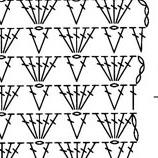enseble_chain: (31, 108, 67, 145), (70, 23, 105, 59), (31, 51, 66, 87), (70, 81, 104, 116), (109, 52, 142, 88), (0, 23, 31, 60), (90, 108, 120, 145), (52, 22, 82, 58), (0, 81, 29, 117), (52, 81, 81, 115), (31, 25, 60, 58), (16, 109, 44, 143), (66, 54, 95, 86), (67, 111, 96, 143), (64, 0, 96, 29), (31, 83, 59, 115), (106, 83, 134, 114), (108, 25, 133, 57), (129, 16, 150, 54), (0, 54, 21, 87), (0, 0, 22, 31), (21, 0, 44, 27), (0, 111, 19, 142), (124, 112, 142, 144), (109, 112, 129, 138), (129, 56, 149, 81), (32, 0, 50, 25), (78, 139, 101, 158), (125, 85, 141, 111), (108, 0, 124, 24)
fan: (99, 0, 120, 25)
